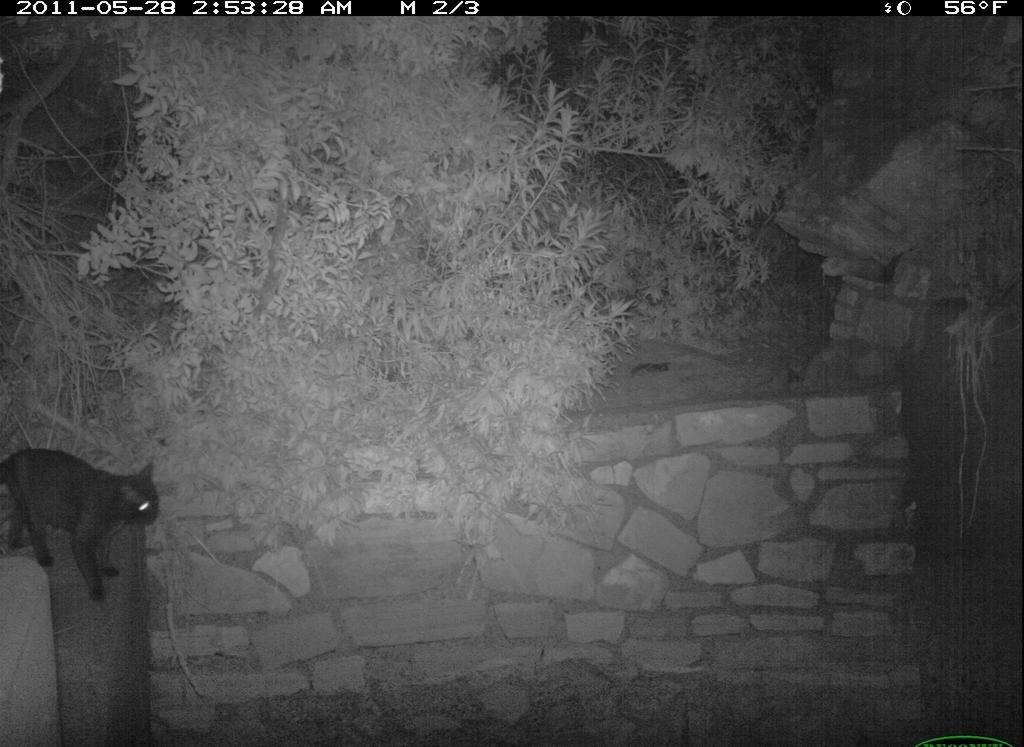cat: (1, 443, 167, 602)
